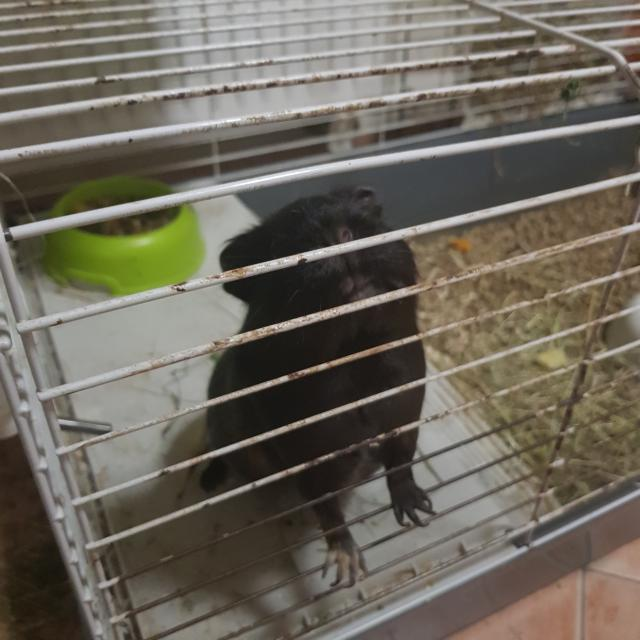guinea pig: (195, 181, 441, 588)
